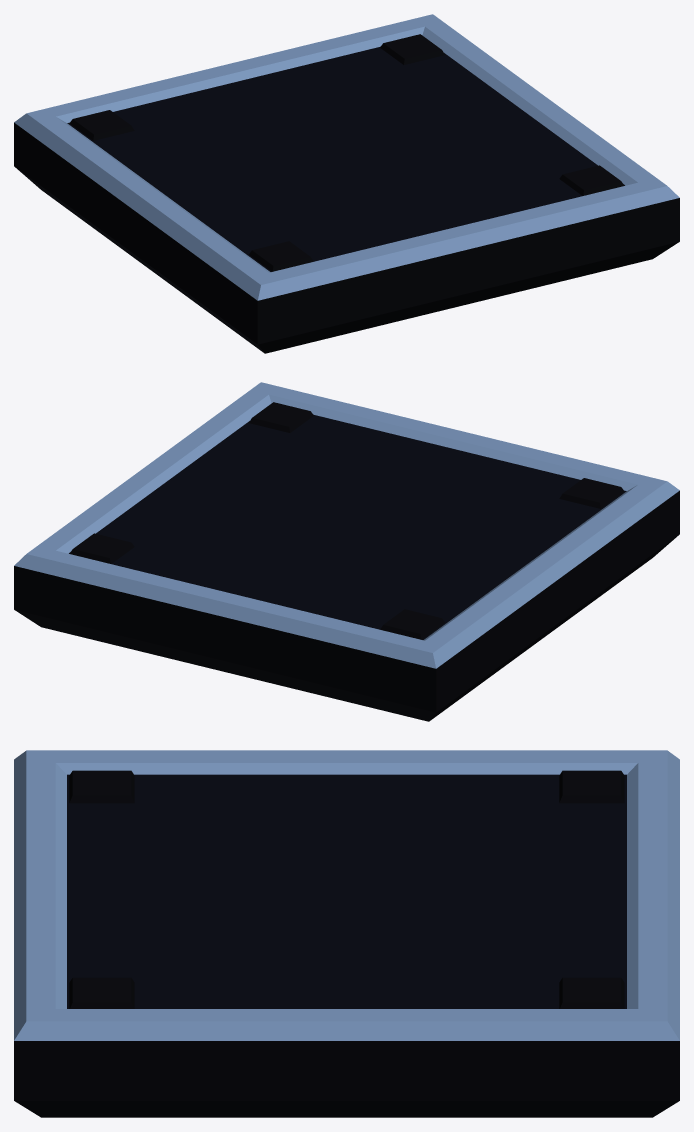
The model's file is SM_ArenaTile_SharedBase.glb.
3 views of the same model, one above another, from view 1: azimuth 30°, elevation 25°; view 2: azimuth 150°, elevation 25°; view 3: azimuth 270°, elevation 25° (orthographic). The views are drawn at different scales.
Parts seen in each view (by area): view 1: Part_MAT_AltNeutral, Part_MAT_DarkNeutral, Part_MAT_LightTrim; view 2: Part_MAT_AltNeutral, Part_MAT_DarkNeutral, Part_MAT_LightTrim; view 3: Part_MAT_AltNeutral, Part_MAT_LightTrim, Part_MAT_DarkNeutral.
Boxes of the visible parts, bbox=[...] form: Part_MAT_AltNeutral: bbox=[67, 46, 624, 271]; Part_MAT_DarkNeutral: bbox=[14, 34, 679, 353]; Part_MAT_LightTrim: bbox=[14, 14, 679, 300]; Part_MAT_AltNeutral: bbox=[69, 414, 626, 639]; Part_MAT_DarkNeutral: bbox=[14, 402, 679, 721]; Part_MAT_LightTrim: bbox=[14, 382, 679, 668]; Part_MAT_AltNeutral: bbox=[67, 774, 626, 1008]; Part_MAT_LightTrim: bbox=[14, 750, 679, 1040]; Part_MAT_DarkNeutral: bbox=[14, 770, 679, 1117].
Size of the model in its own units: 11.8 by 2 by 11.8.
Materials: 3 (3 with a texture image).
